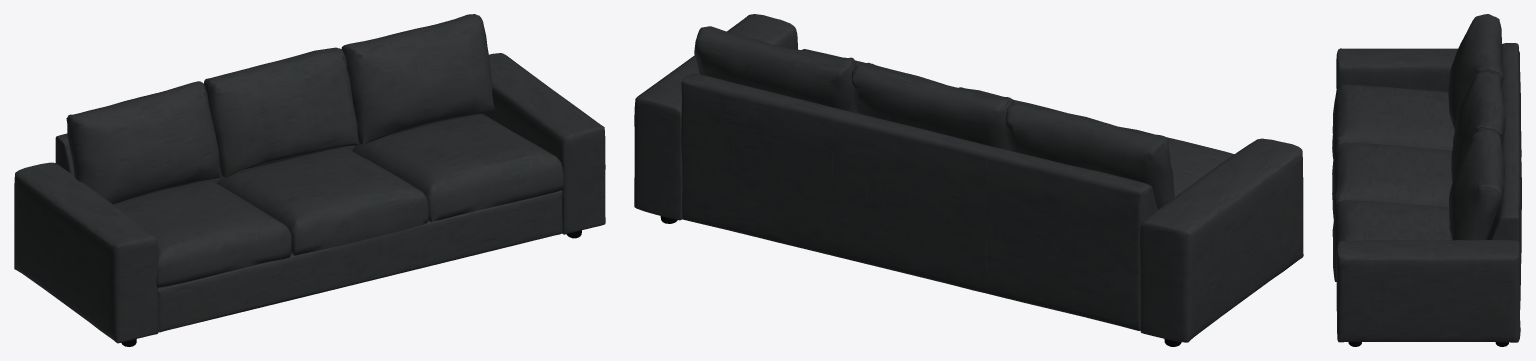
File: vimle_sofa_3_osobowa_rozkadana_29542667.glb
3 renders of one model, left to right at view 1: azimuth 30°, elevation 25°; view 2: azimuth 150°, elevation 25°; view 3: azimuth 270°, elevation 25°, orthographic. The views are drawn at different scales.
Visible parts, largest first — view 1: vimle_sofa_3_osobowa_rozkadana_29542667; view 2: vimle_sofa_3_osobowa_rozkadana_29542667; view 3: vimle_sofa_3_osobowa_rozkadana_29542667.
Boxes of the visible parts, left/top/right/bottom form: vimle_sofa_3_osobowa_rozkadana_29542667: left=14, top=14, right=605, bottom=346; vimle_sofa_3_osobowa_rozkadana_29542667: left=634, top=14, right=1303, bottom=346; vimle_sofa_3_osobowa_rozkadana_29542667: left=1332, top=14, right=1521, bottom=346.
Bounding box in the file's own units: 2.57 × 0.8578 × 0.9721.
Materials: 1 (1 with a texture image).
